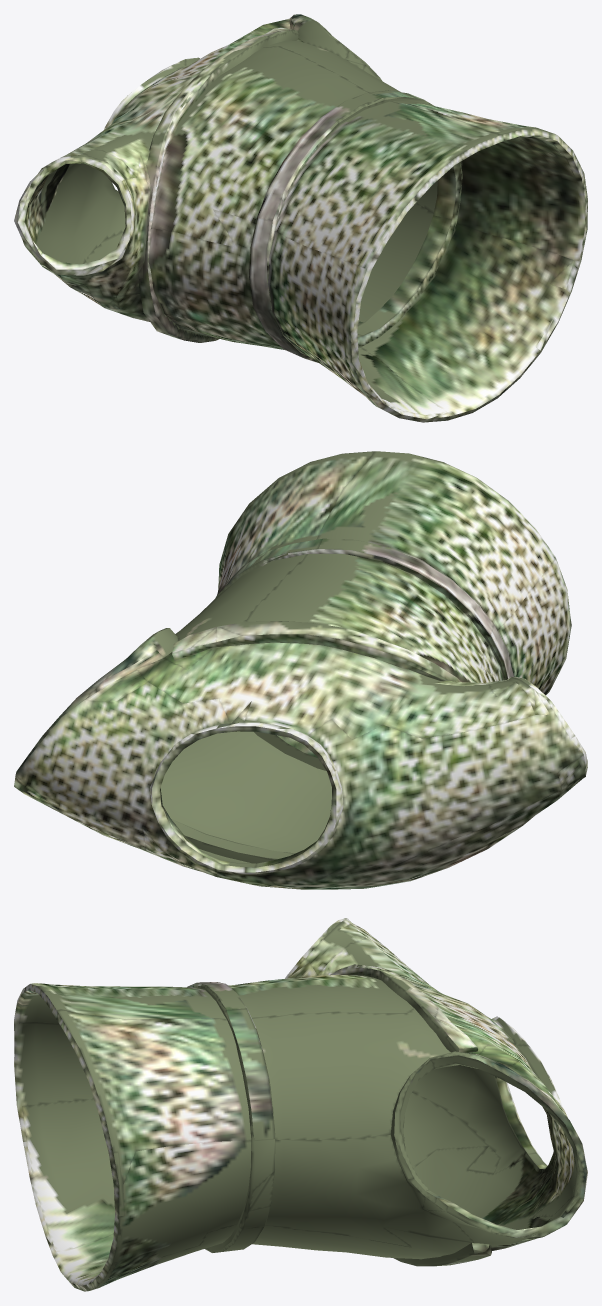
File: item_mm9_10201.glb
The picture shows the model from 3 angles, top to bottom: view 1: azimuth 30°, elevation 25°; view 2: azimuth 150°, elevation 25°; view 3: azimuth 270°, elevation 25°; orthographic projection. The views are drawn at different scales.
Visible parts, largest first — view 1: d10201; view 2: d10201; view 3: d10201.
Part boxes in pixels (x1=…): d10201: x1=14, y1=14, x2=587, y2=422; d10201: x1=14, y1=451, x2=587, y2=889; d10201: x1=14, y1=918, x2=587, y2=1291.
Bounding box in the file's own units: 1.03 × 0.5877 × 1.09.
1 material, 1 textured.
